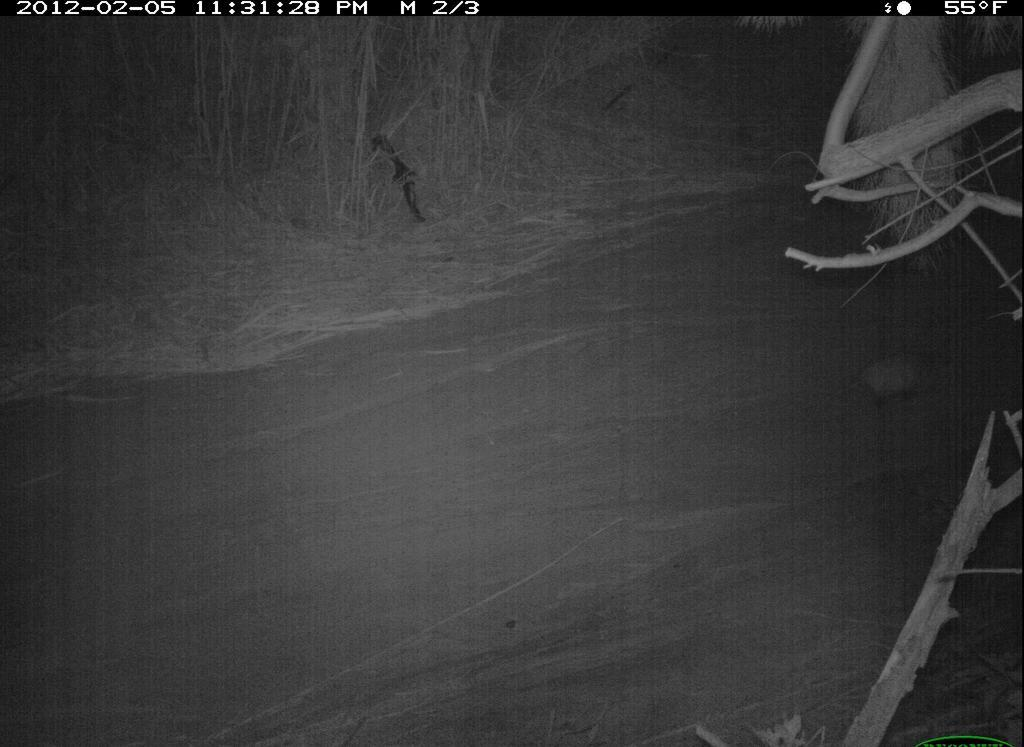opossum: (801, 337, 971, 422)
